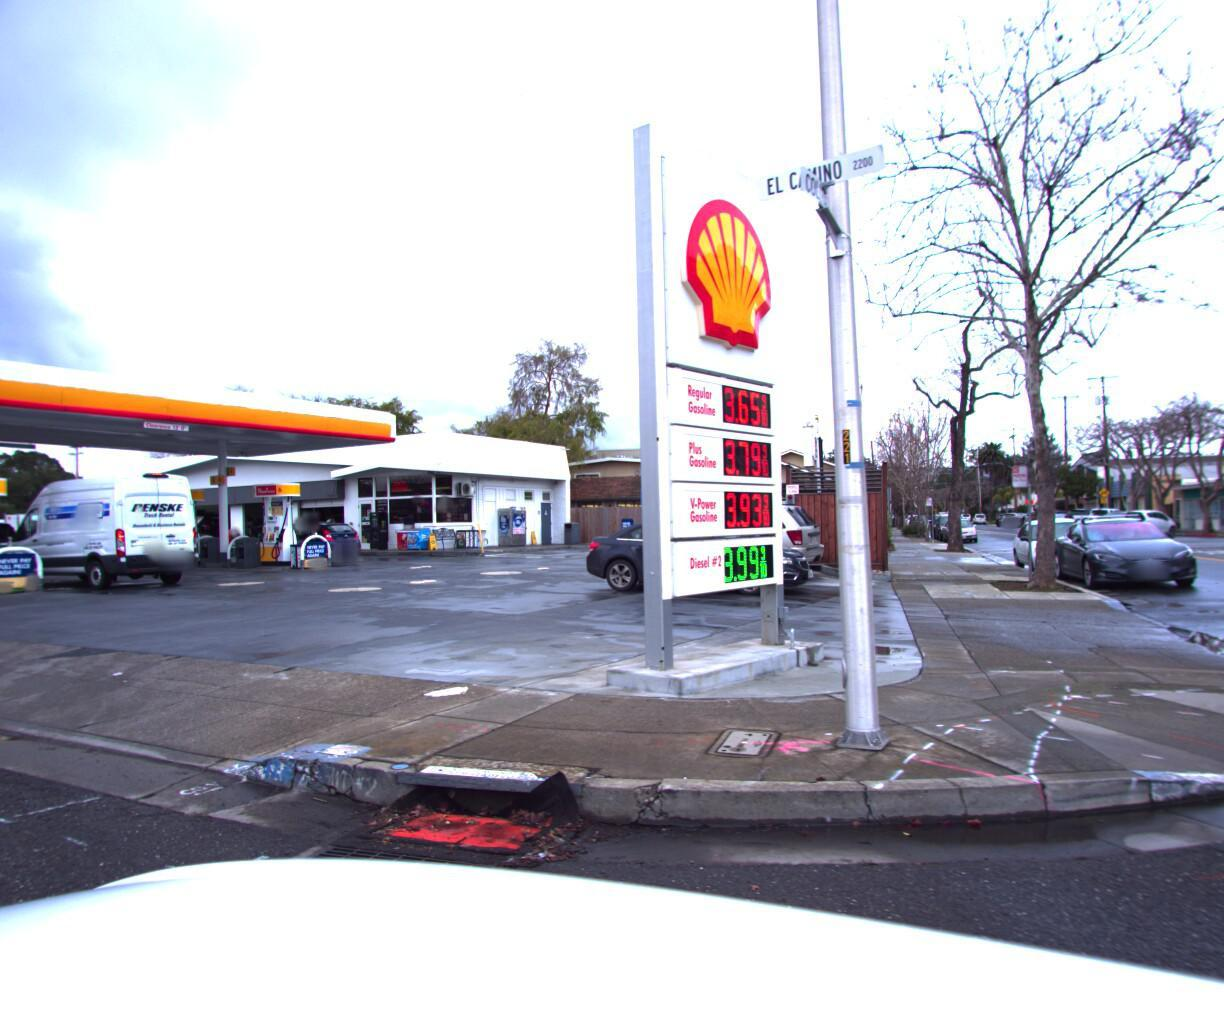car: (571, 519, 820, 604), (606, 506, 829, 590), (1047, 515, 1203, 597), (1006, 520, 1105, 582), (250, 526, 369, 570), (189, 518, 290, 552), (287, 494, 383, 525), (0, 526, 35, 588), (1107, 513, 1181, 541), (1062, 509, 1128, 537), (938, 526, 977, 550)
truck: (0, 474, 206, 595)
